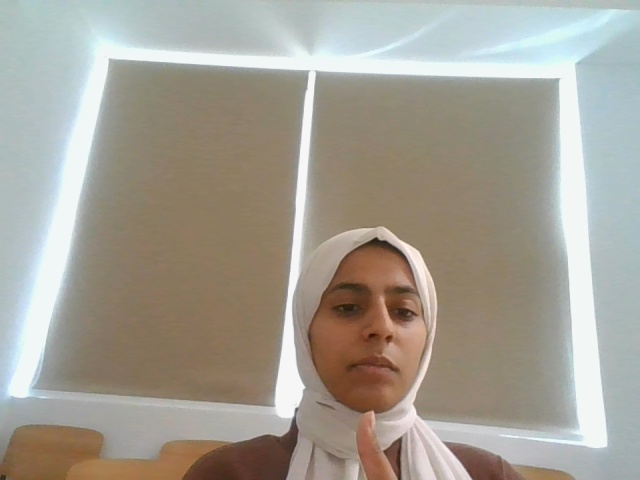help: (313, 403, 438, 480)
